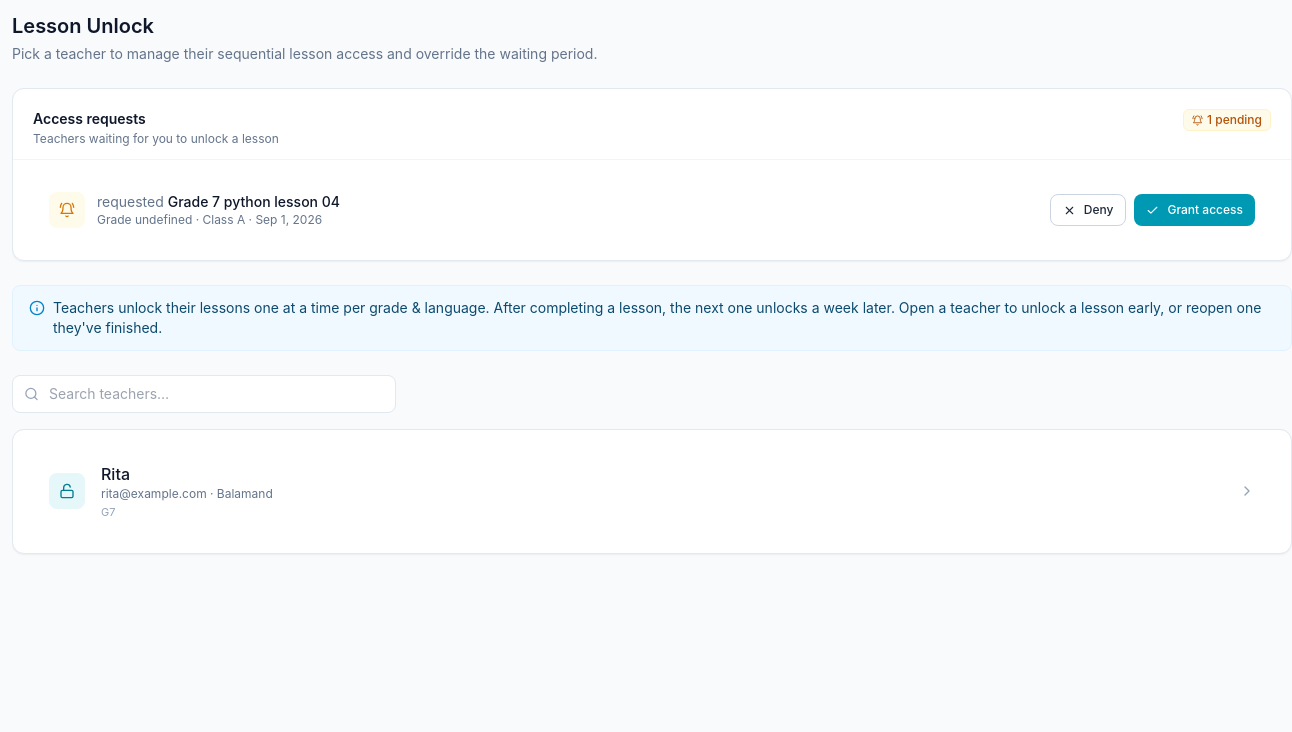
a grant that fails › takes the row away when it works, and says nothing
expect the text "Grade 7 python lesson 04" is shown: met, box x1=168 y1=193 x2=340 y2=210
Click the button "Grant access".
click(1195, 210)  # box x1=1134 y1=194 x2=1255 y2=226
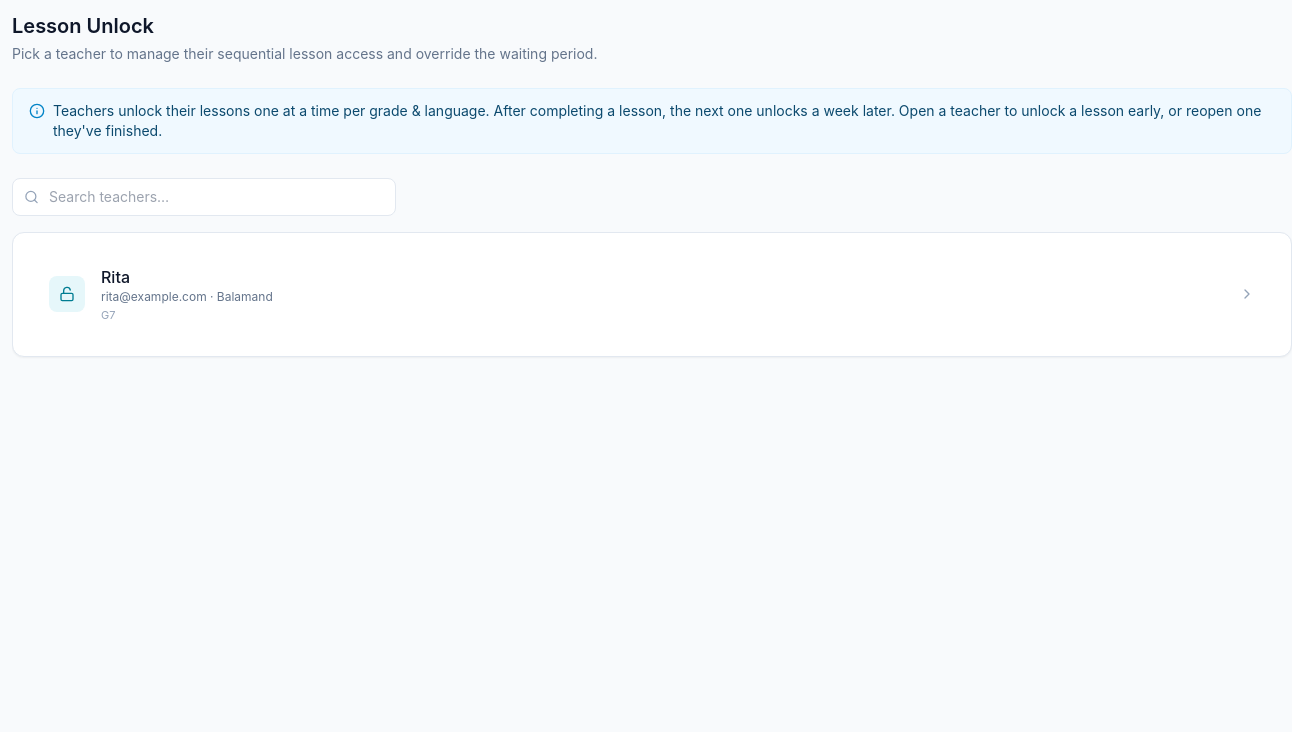
expect the text "Grade 7 python lesson 04" is gone: met
